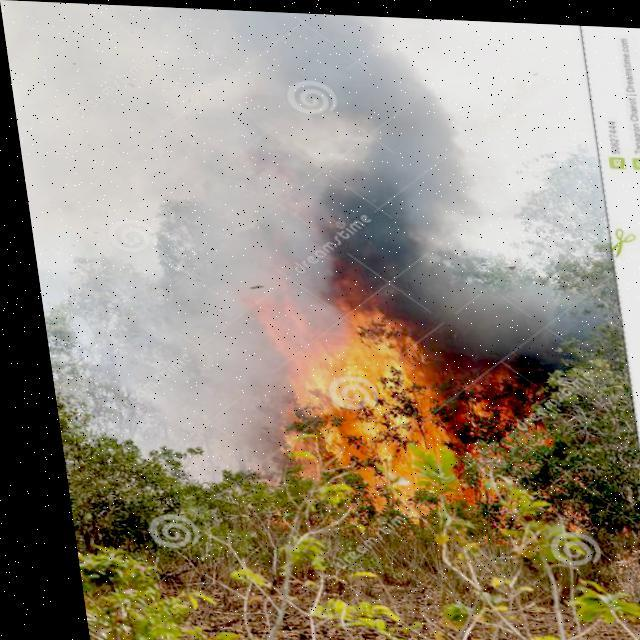Fire: (245, 274, 558, 526)
